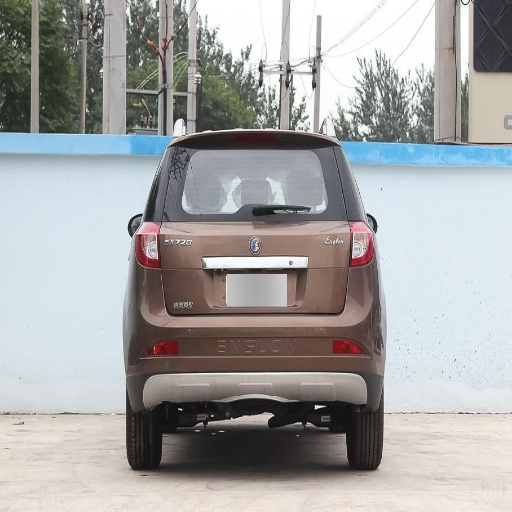back_bumper: (126, 265, 383, 407)
